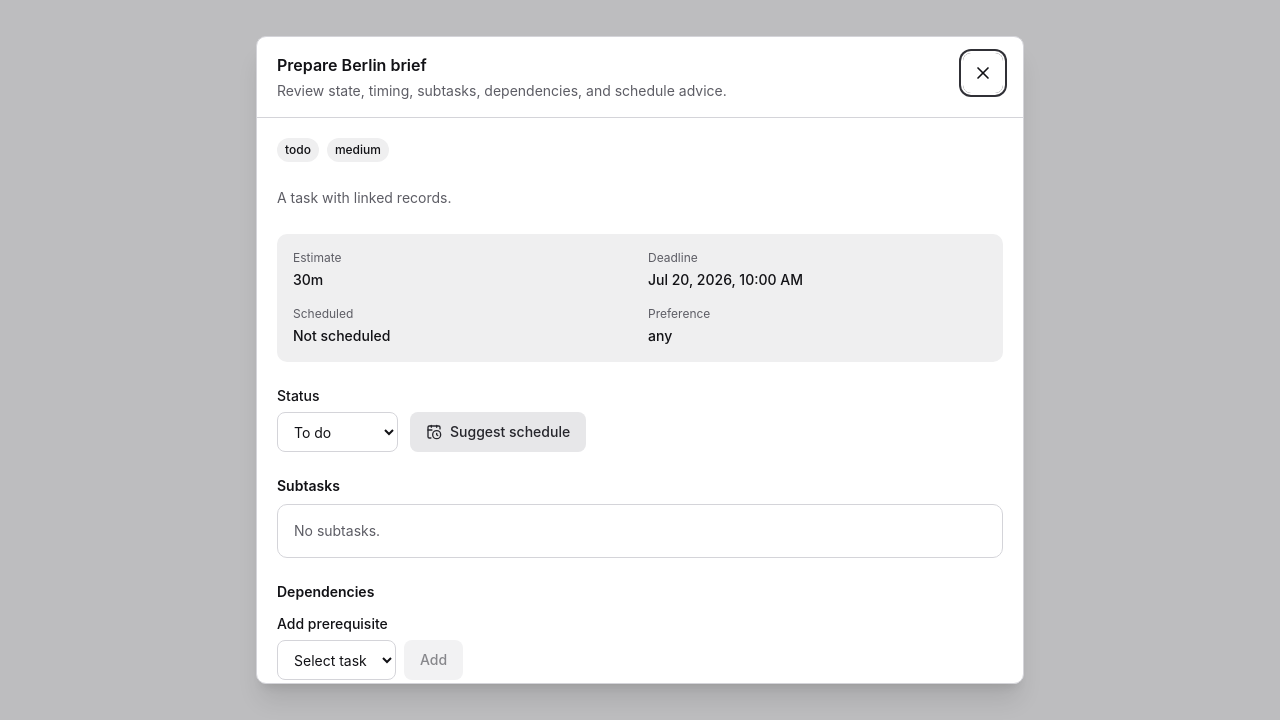
Scenario: TaskDetail scheduling › does not offer an apply action when no placement is available
Click the button "Suggest schedule". click: {"x": 498, "y": 432}
box: [410,412,586,452]
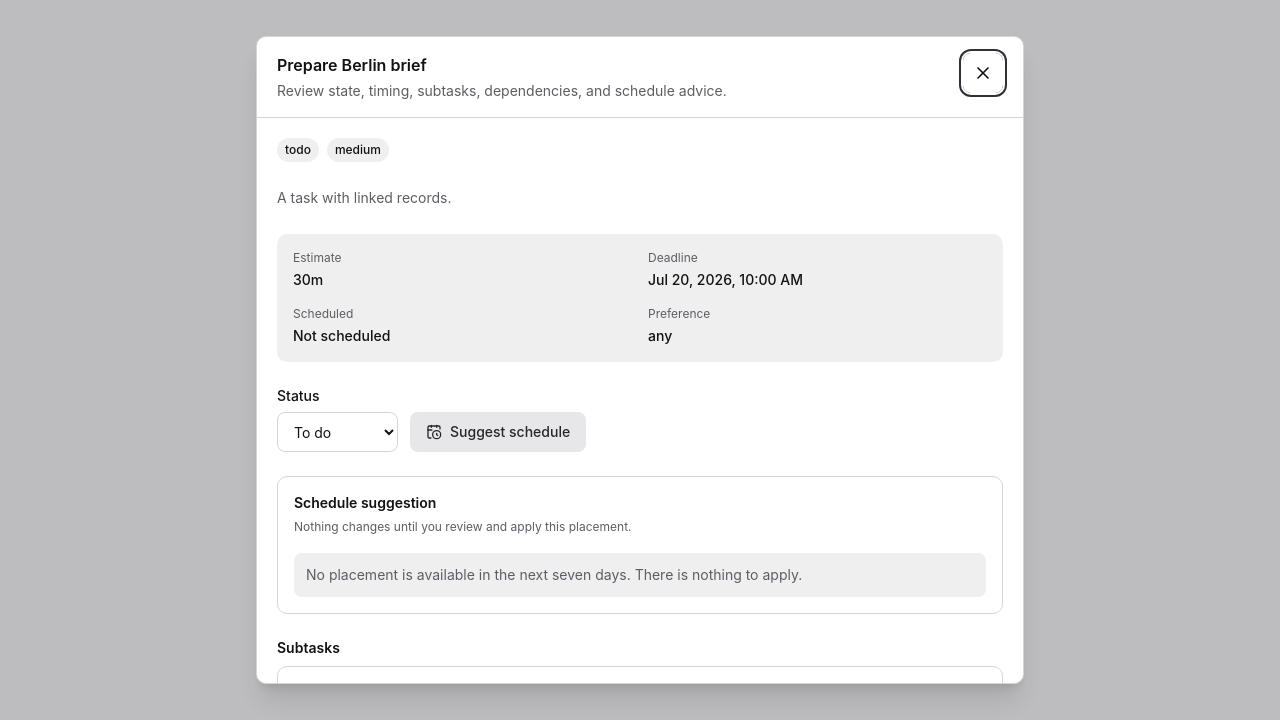
Now the text "There is nothing to apply" is shown, box [306,566,802,583]
